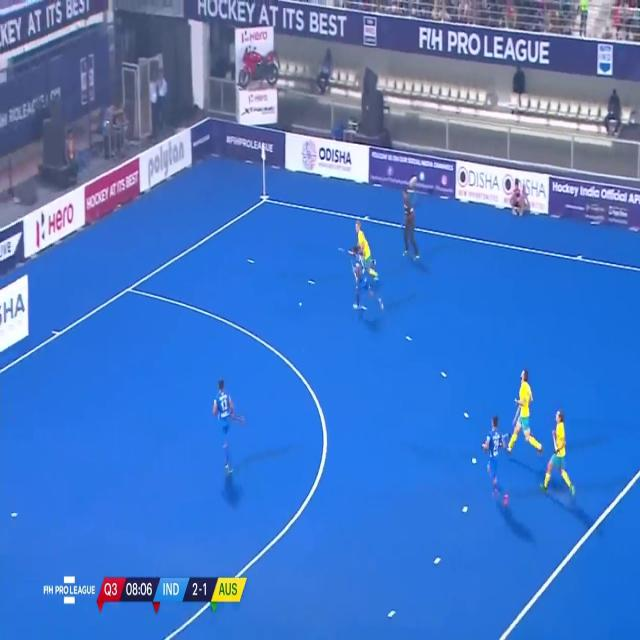ball: (297, 298, 303, 310)
